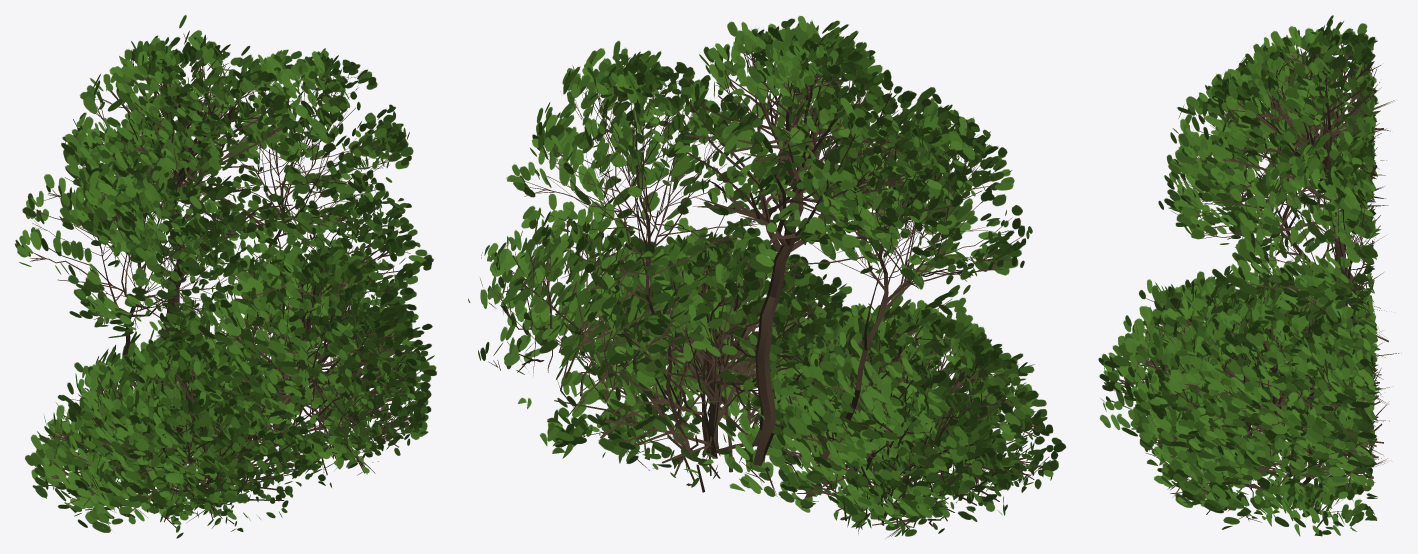
3 views of the same model, side by side, from view 1: azimuth 30°, elevation 25°; view 2: azimuth 150°, elevation 25°; view 3: azimuth 270°, elevation 25° (orthographic). The views are drawn at different scales.
Parts seen in each view (by area): view 1: oak 01.001_trunk_Mat.001_0.222; view 2: oak 01.001_trunk_Mat.001_0.222; view 3: oak 01.001_trunk_Mat.001_0.222.
Part boxes in pixels (x1,y1,x2,y2): oak 01.001_trunk_Mat.001_0.222: (14, 15, 436, 538); oak 01.001_trunk_Mat.001_0.222: (468, 16, 1065, 537); oak 01.001_trunk_Mat.001_0.222: (1098, 15, 1399, 536).
Size of the model in its own units: 4.06 by 3.86 by 2.47.
2 materials, 1 textured.
